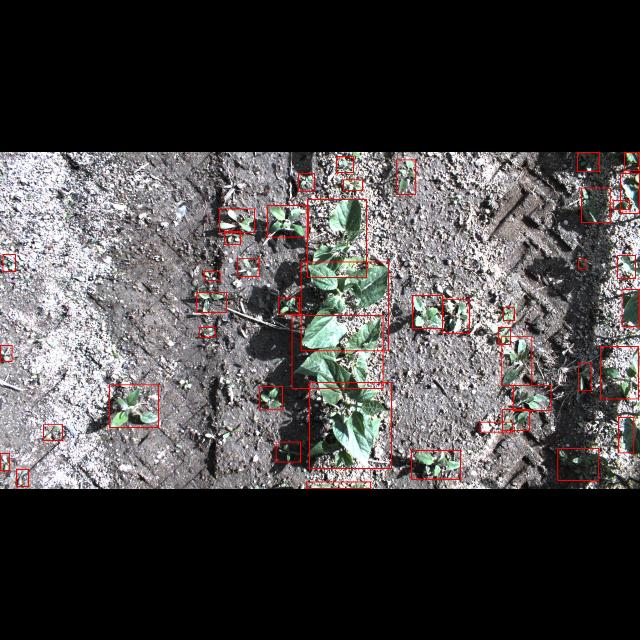crop: (302, 262, 388, 351), (309, 382, 391, 468), (292, 316, 382, 388), (307, 198, 367, 276), (110, 384, 158, 428), (620, 172, 640, 212), (622, 288, 640, 326), (260, 386, 282, 410), (279, 297, 299, 313)
weed: (600, 346, 638, 398), (502, 336, 532, 384), (412, 449, 461, 478), (558, 448, 598, 480), (268, 204, 308, 236), (413, 294, 443, 328), (582, 186, 610, 222), (513, 384, 551, 410), (442, 298, 470, 332), (220, 208, 254, 232), (396, 158, 416, 194), (196, 292, 226, 312), (618, 417, 634, 453), (502, 410, 530, 430), (276, 442, 300, 462), (618, 255, 636, 278), (577, 152, 599, 170), (237, 258, 259, 276), (306, 482, 370, 488), (579, 363, 591, 391), (480, 422, 512, 432), (624, 152, 640, 170), (44, 424, 62, 440), (336, 156, 354, 172), (298, 172, 314, 190), (343, 178, 363, 190), (2, 253, 16, 270), (498, 326, 510, 344), (17, 468, 29, 486), (224, 230, 240, 243), (0, 345, 12, 361), (0, 454, 10, 471), (614, 199, 630, 209), (204, 270, 220, 280), (504, 306, 514, 320), (200, 327, 214, 337), (578, 258, 586, 268)
